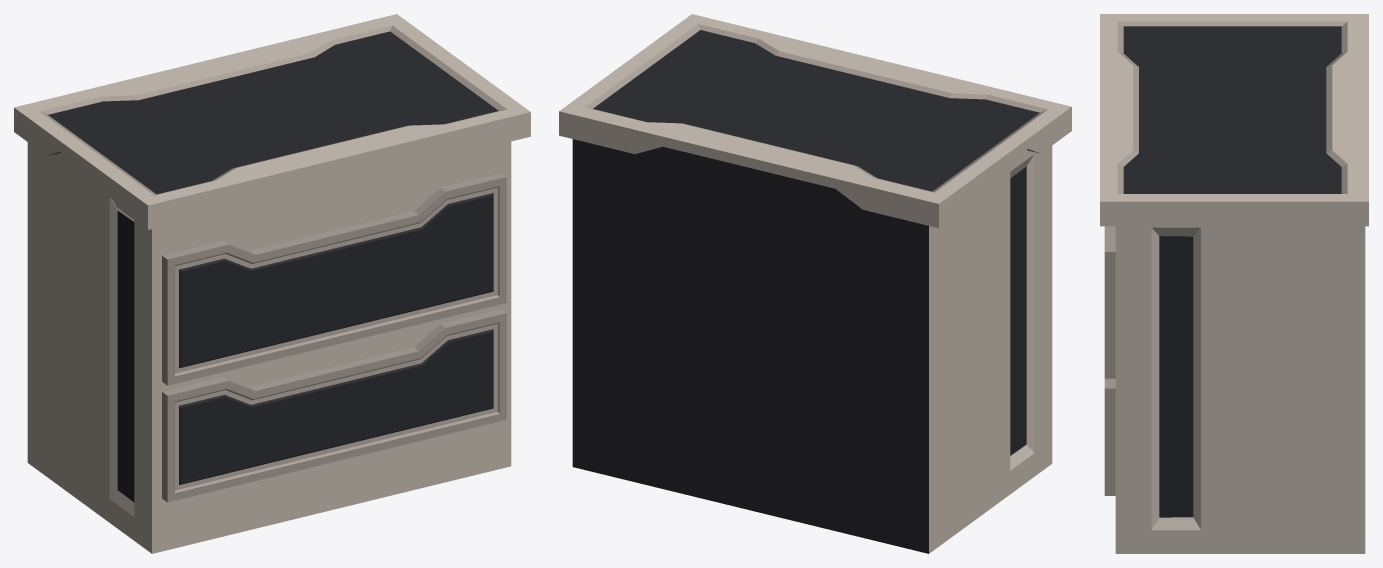
The model's file is SM_Floor_Stand.glb.
3 renders of one model, left to right at view 1: azimuth 30°, elevation 25°; view 2: azimuth 150°, elevation 25°; view 3: azimuth 270°, elevation 25°, orthographic.
Parts seen in each view (by area): view 1: SM_Floor_Stand; view 2: SM_Floor_Stand; view 3: SM_Floor_Stand.
Boxes of the visible parts, bbox=[...] form: SM_Floor_Stand: bbox=[14, 14, 530, 553]; SM_Floor_Stand: bbox=[559, 14, 1071, 553]; SM_Floor_Stand: bbox=[1100, 14, 1368, 553].
Size of the model in its own units: 1.07 by 0.95 by 0.6462.
Materials: 1 (1 with a texture image).
